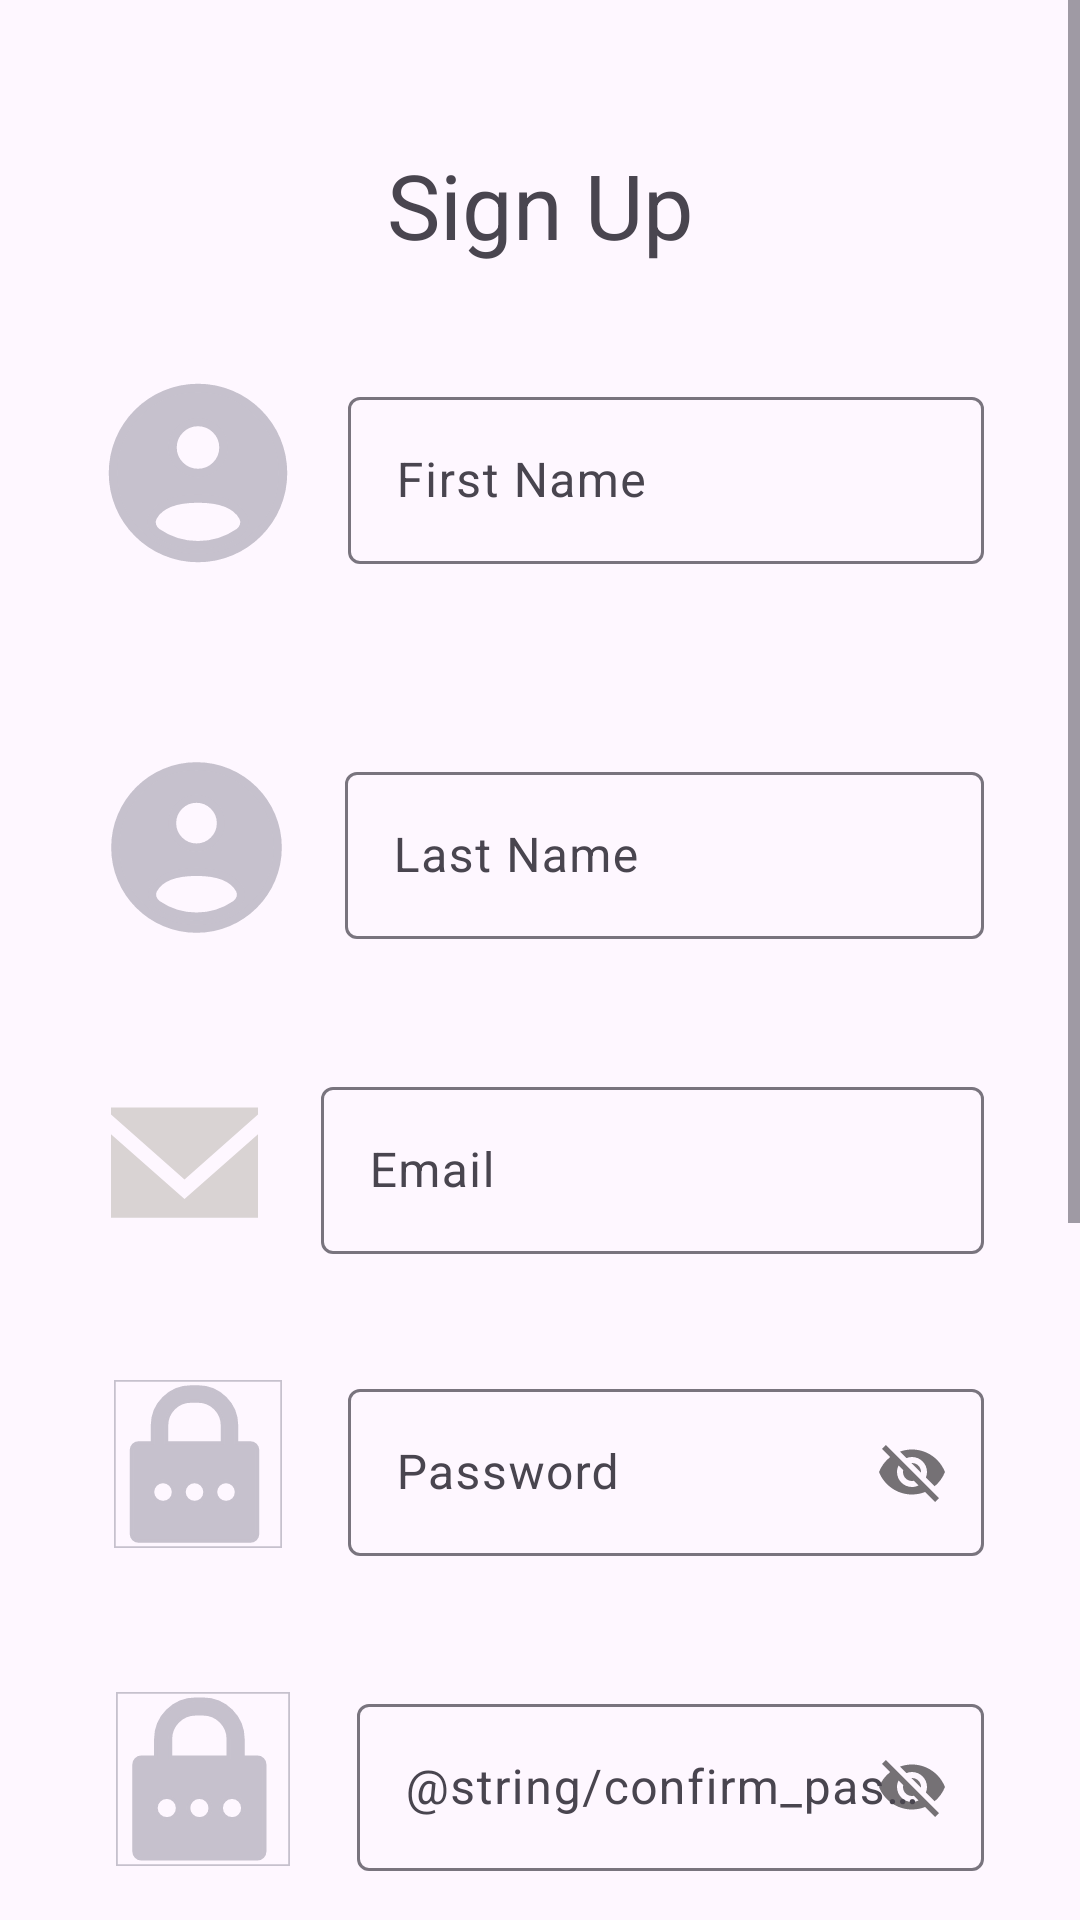

Where to tap for icons on this 1080px x 1920px app screen, as point (x, y):
greyuser: point (198, 473), point (196, 847)
